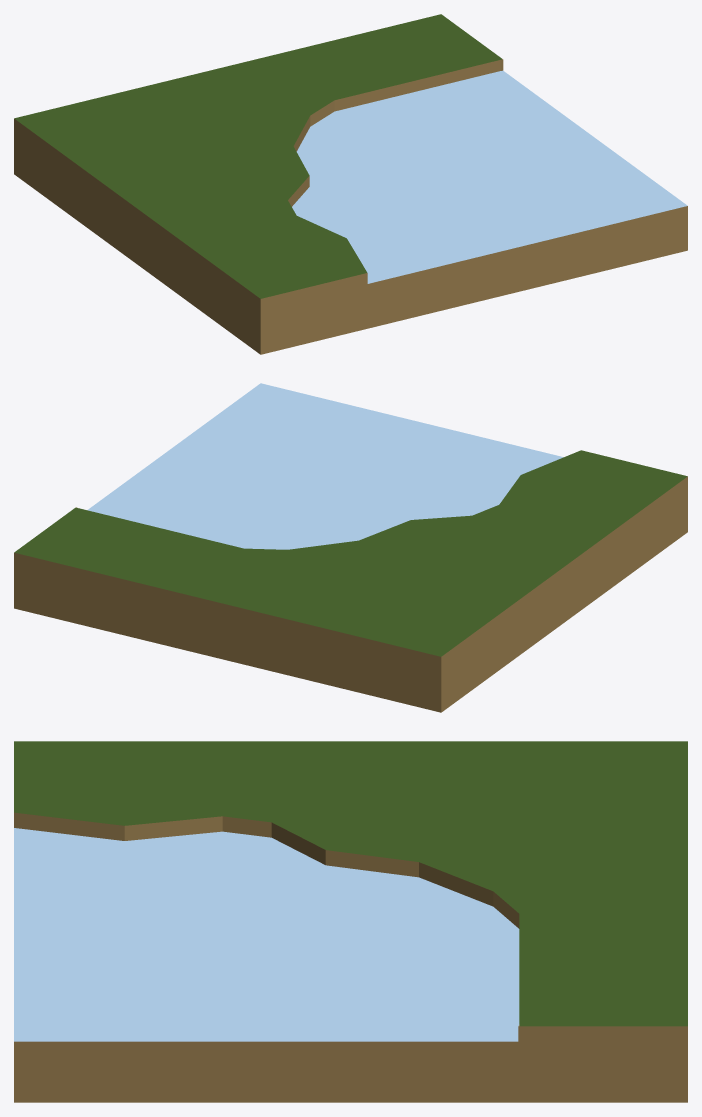
File: Terrain_Tile_Grass_Dirt_Water_Bank_Corner_02.fbx
The picture shows the model from 3 angles, top to bottom: view 1: azimuth 30°, elevation 25°; view 2: azimuth 150°, elevation 25°; view 3: azimuth 270°, elevation 25°; orthographic projection. The views are drawn at different scales.
Parts seen in each view (by area): view 1: Terrain_Tile_Grass_Dirt_Water_Bank_Corner_02; view 2: Terrain_Tile_Grass_Dirt_Water_Bank_Corner_02; view 3: Terrain_Tile_Grass_Dirt_Water_Bank_Corner_02.
Part boxes in pixels (<box>): Terrain_Tile_Grass_Dirt_Water_Bank_Corner_02: <box>14,14,687,354</box>; Terrain_Tile_Grass_Dirt_Water_Bank_Corner_02: <box>14,383,687,712</box>; Terrain_Tile_Grass_Dirt_Water_Bank_Corner_02: <box>14,741,687,1102</box>.
Size of the model in its own units: 126 by 15.75 by 126.
